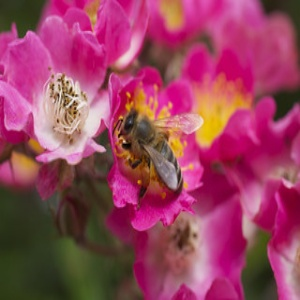bee: (117, 104, 202, 206)
